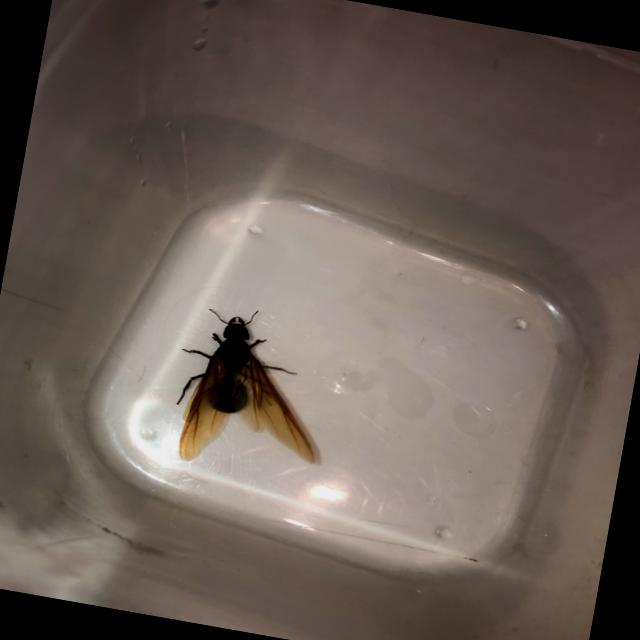Alive-Female-Alate: (164, 296, 341, 484)
